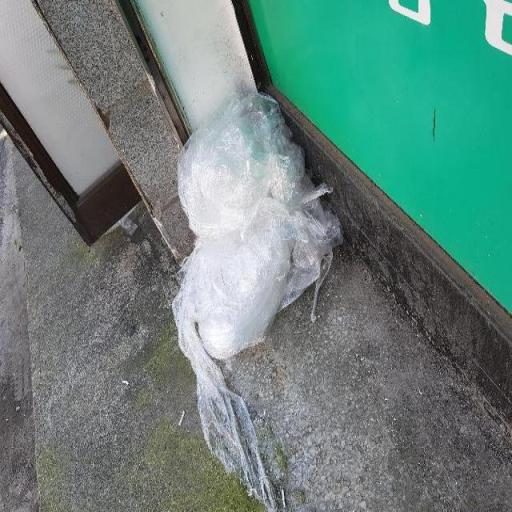plastic-bag: (167, 91, 343, 359)
